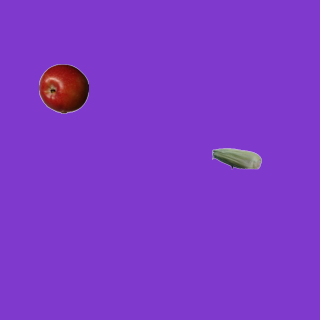Apple Braeburn: (38, 63, 88, 113)
Corn Husk: (211, 133, 261, 183)
